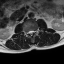CCS_normal: (30, 28, 32, 38)
LFS_stenosis: (34, 28, 36, 34)
LLS_normal: (32, 28, 34, 35)
RFS_normal: (26, 29, 28, 36)
RLS_normal: (28, 29, 30, 36)
